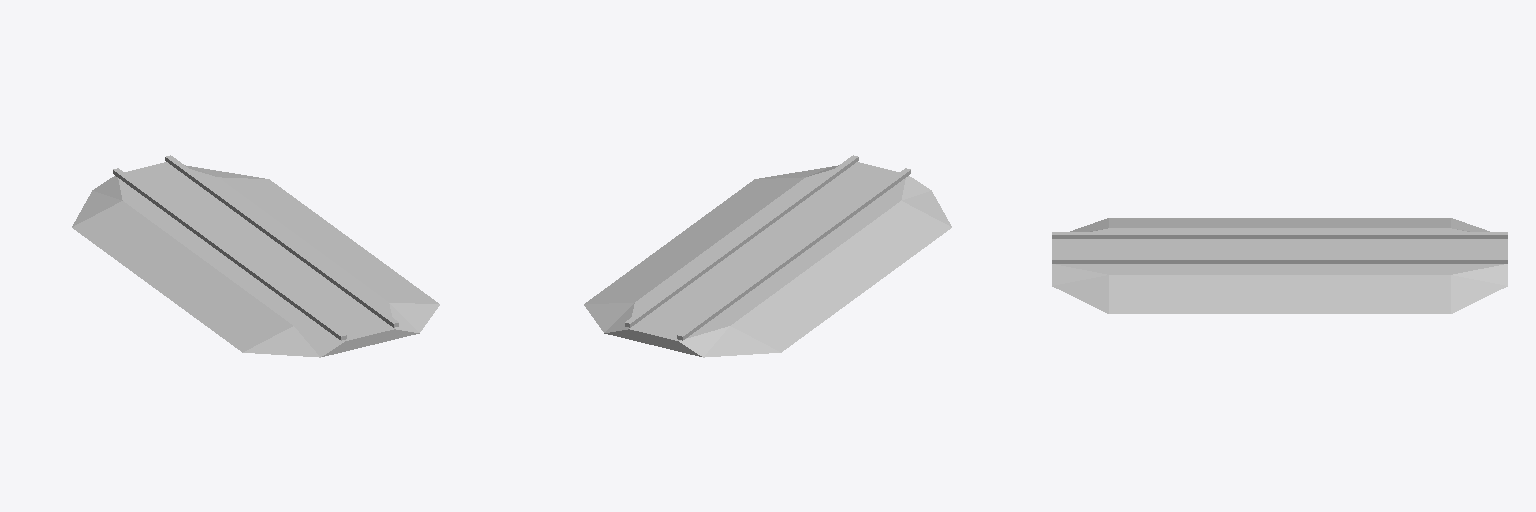
The model's file is SM_Env_Track_RoadCrossing_01.obj.
The picture shows the model from 3 angles: view 1: azimuth 30°, elevation 25°; view 2: azimuth 150°, elevation 25°; view 3: azimuth 270°, elevation 25°; orthographic projection.
Parts seen in each view (by area): view 1: SM_Env_Track_RoadCrossing_01:Mesh; view 2: SM_Env_Track_RoadCrossing_01:Mesh; view 3: SM_Env_Track_RoadCrossing_01:Mesh.
Part boxes in pixels (x1,y1,x2,y2): SM_Env_Track_RoadCrossing_01:Mesh: (72,155,439,357); SM_Env_Track_RoadCrossing_01:Mesh: (584,155,951,357); SM_Env_Track_RoadCrossing_01:Mesh: (1052,218,1507,313).
Bounding box in the file's own units: 10 × 0.9666 × 20.